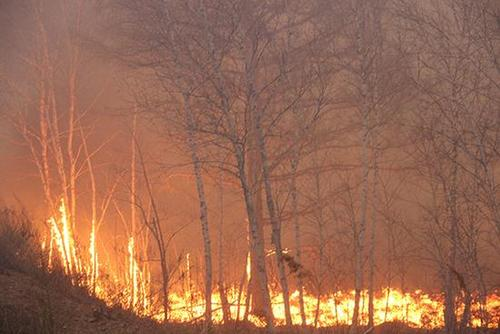fire: (271, 290, 444, 327), (44, 212, 97, 288), (164, 289, 250, 321), (124, 240, 151, 317), (471, 290, 500, 327)
